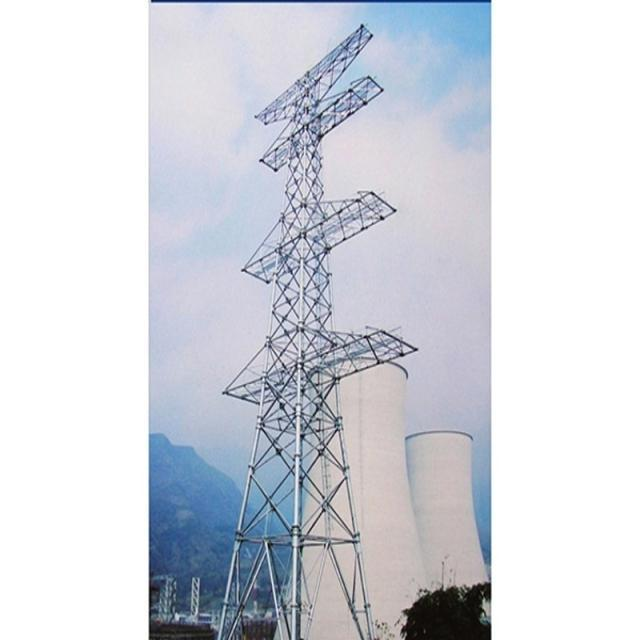non-critical vegetation: (224, 34, 382, 634)
